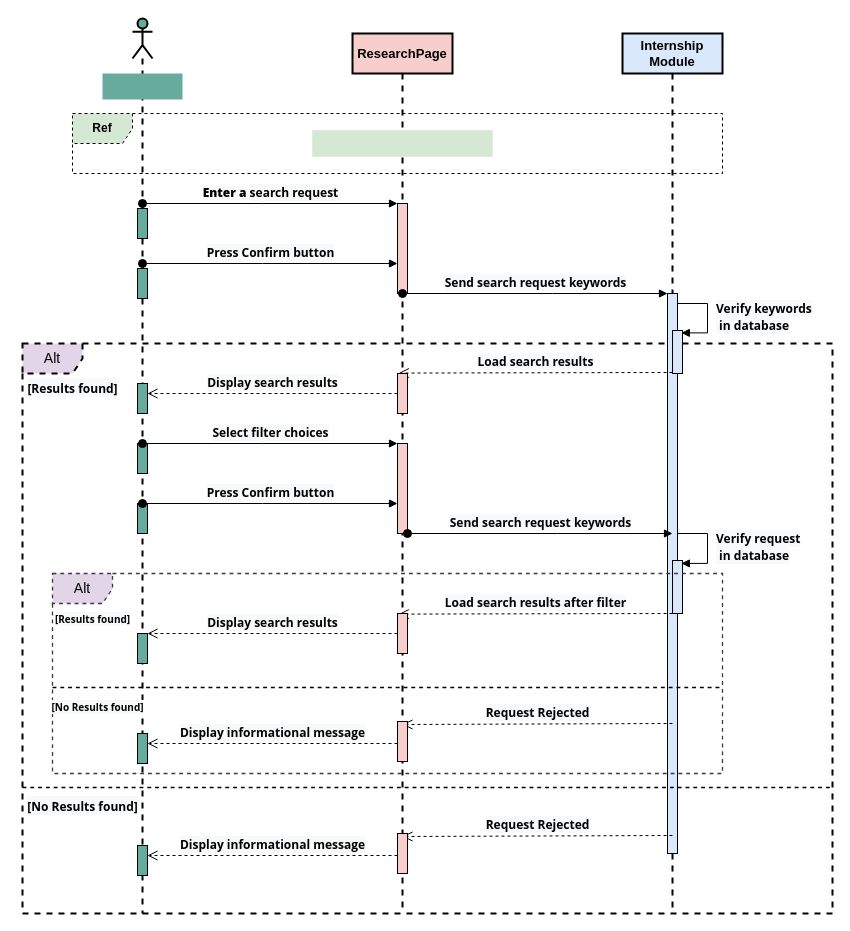
The diagram is 850 pixels wide and 931 high, and some of its shapes have lost their labels. The shapes that lost their labels are listed below. From the top down, each one's centre as x and y in pixels, then its label:
At pixel 142 86: "Étudiant".
At pixel 402 143: "Authentication".
